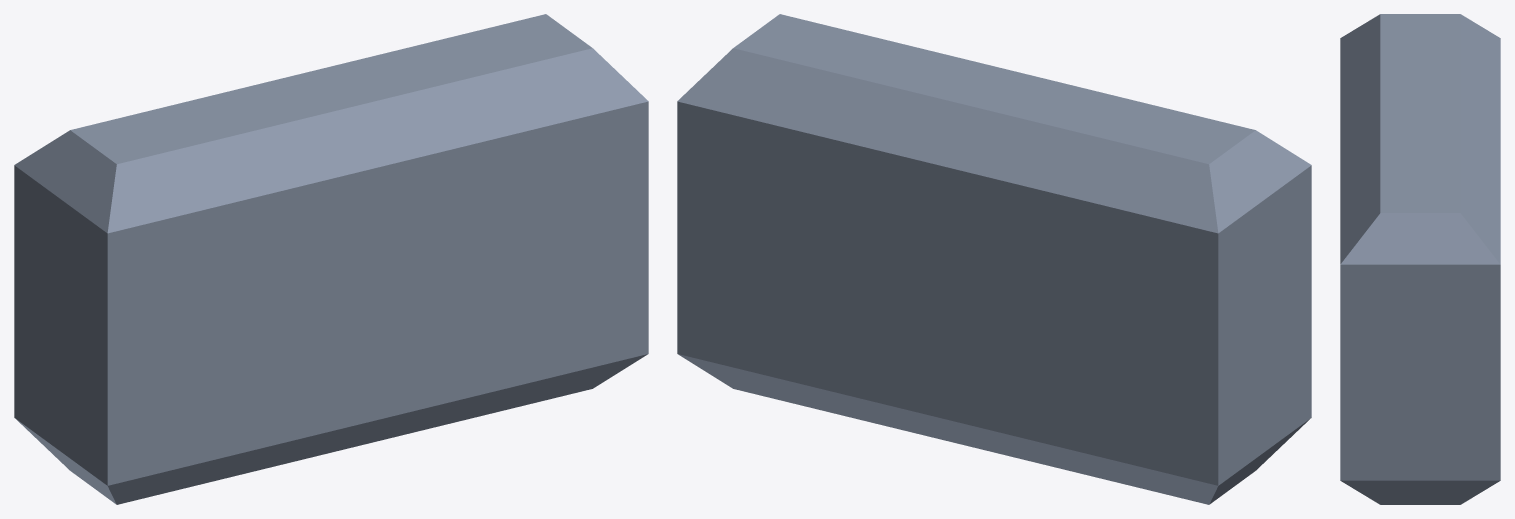
File: 1_Rock_2.fbx
3 renders of one model, left to right at view 1: azimuth 30°, elevation 25°; view 2: azimuth 150°, elevation 25°; view 3: azimuth 270°, elevation 25°, orthographic. The views are drawn at different scales.
Parts seen in each view (by area): view 1: pasted__pasted__pCube42; view 2: pasted__pasted__pCube42; view 3: pasted__pasted__pCube42.
Boxes of the visible parts, bbox=[...] form: pasted__pasted__pCube42: bbox=[14, 14, 648, 504]; pasted__pasted__pCube42: bbox=[677, 14, 1311, 504]; pasted__pasted__pCube42: bbox=[1340, 14, 1500, 504].
Bounding box in the file's own units: 0.7238 × 0.4354 × 0.2164.
